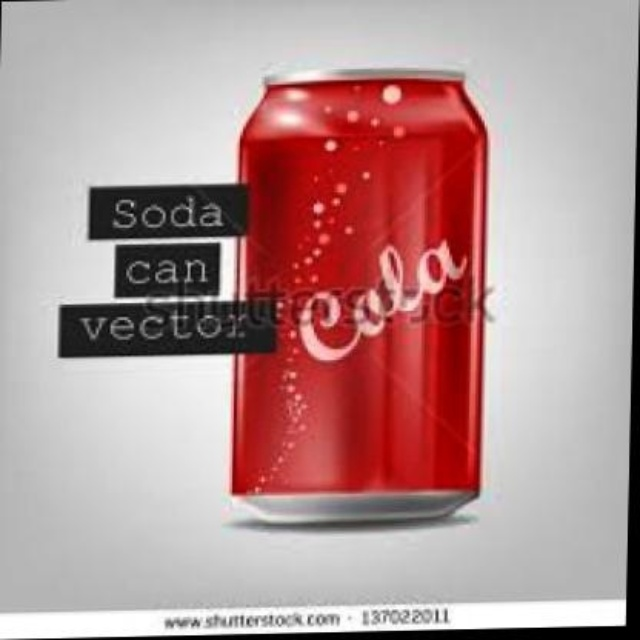trash: (232, 75, 485, 522)
